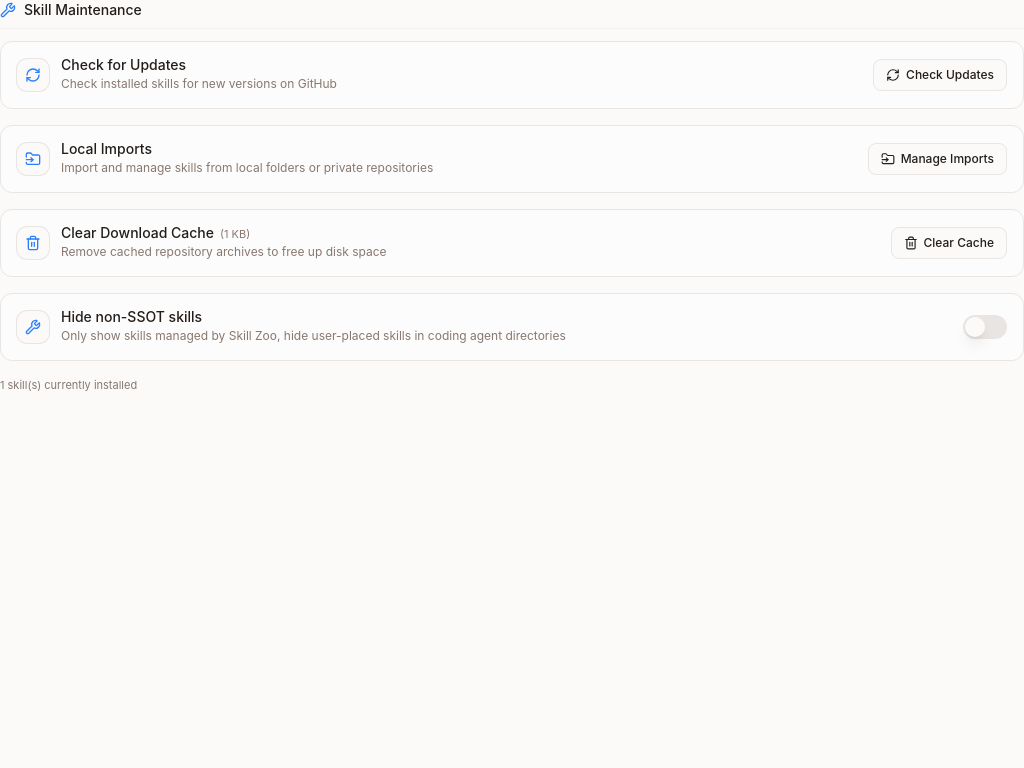
Scenario: SkillMaintenanceSettings › shows update check diagnostics in the update manager
Click the button "Check Updates" at (940, 75), box top-left (873, 59), bottom-right (1007, 91)
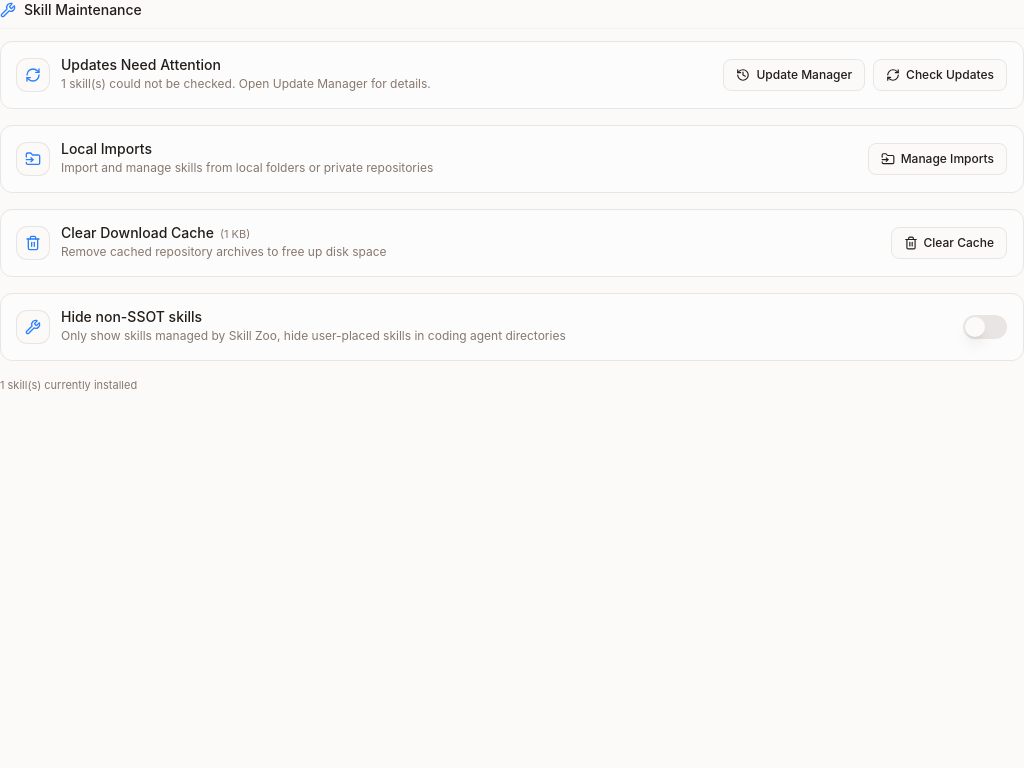
Result: the text "1 skill(s) could not be checked. Open Update Manager for details." is shown at top-left (61, 76), bottom-right (431, 92)
Click the button "Update Manager" at (794, 75), box top-left (723, 59), bottom-right (865, 91)
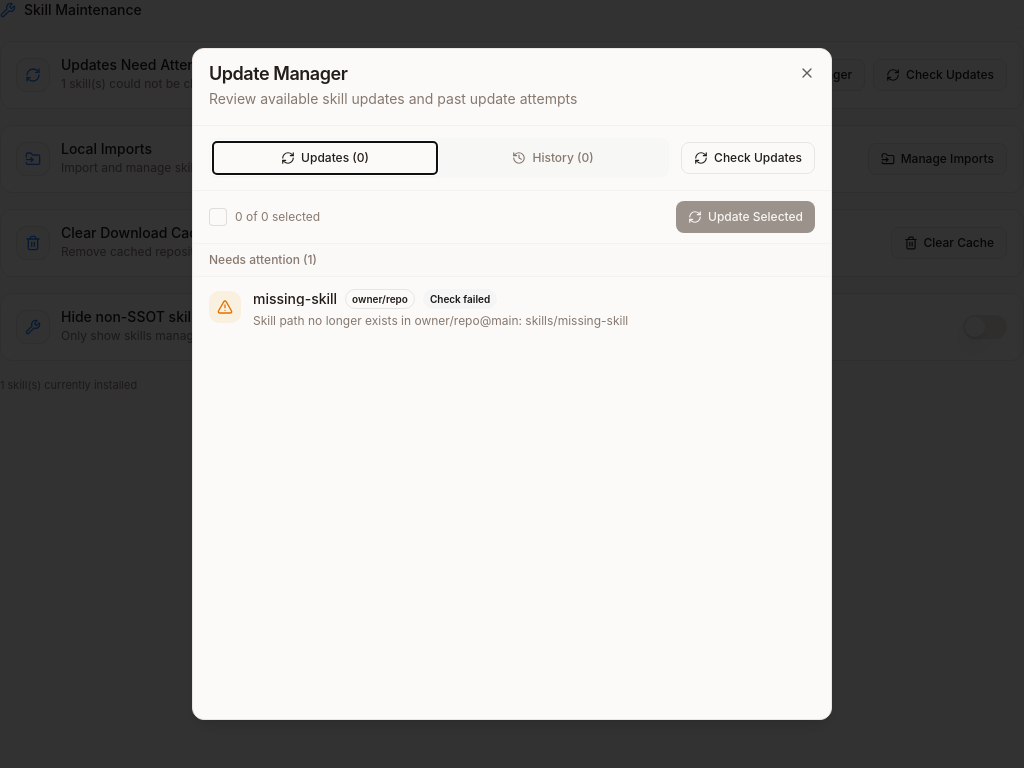
Result: the text "Needs attention (1)" is shown at top-left (193, 244), bottom-right (831, 277)
Result: the text "missing-skill" is shown at top-left (253, 292), bottom-right (337, 306)
Result: the text "Skill path no longer exists in owner/repo@main: skills/missing-skill" is shown at top-left (253, 313), bottom-right (628, 328)
